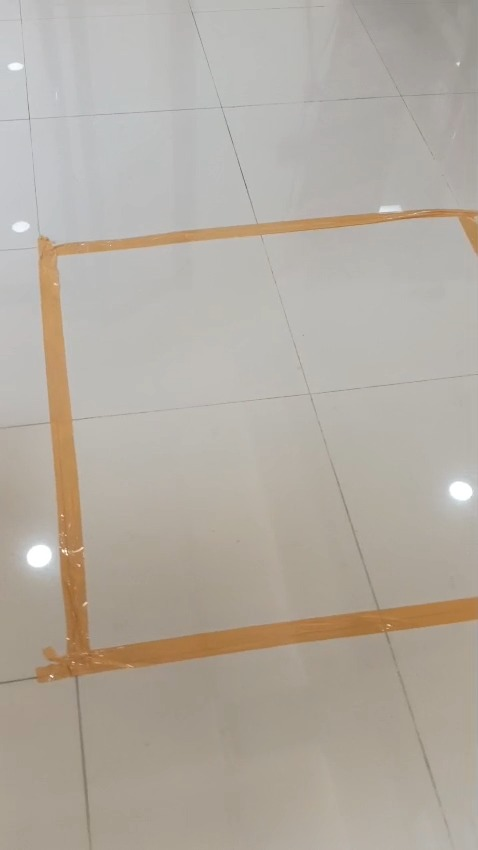floor marking: (37, 209, 477, 681)
